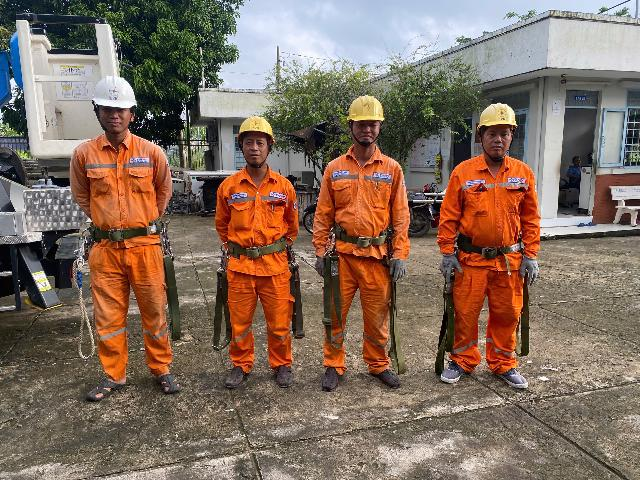gloves: (434, 252, 464, 290), (379, 254, 409, 285), (517, 255, 545, 287), (312, 256, 331, 287)
harness: (333, 216, 401, 254), (77, 214, 170, 240), (224, 227, 290, 263), (452, 229, 526, 259)
helmet: (87, 75, 142, 112), (470, 100, 523, 134), (348, 87, 388, 130), (229, 115, 276, 148)
shoes: (82, 375, 134, 403), (493, 362, 534, 394), (436, 357, 477, 388), (319, 366, 353, 397), (147, 373, 184, 398), (224, 364, 252, 395), (371, 363, 399, 394), (270, 366, 294, 396)
